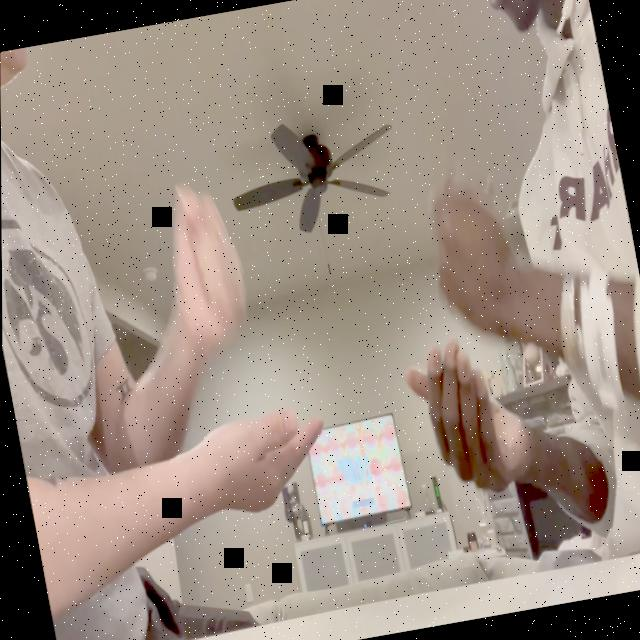Rock: (418, 170, 528, 356), (153, 176, 255, 353)
